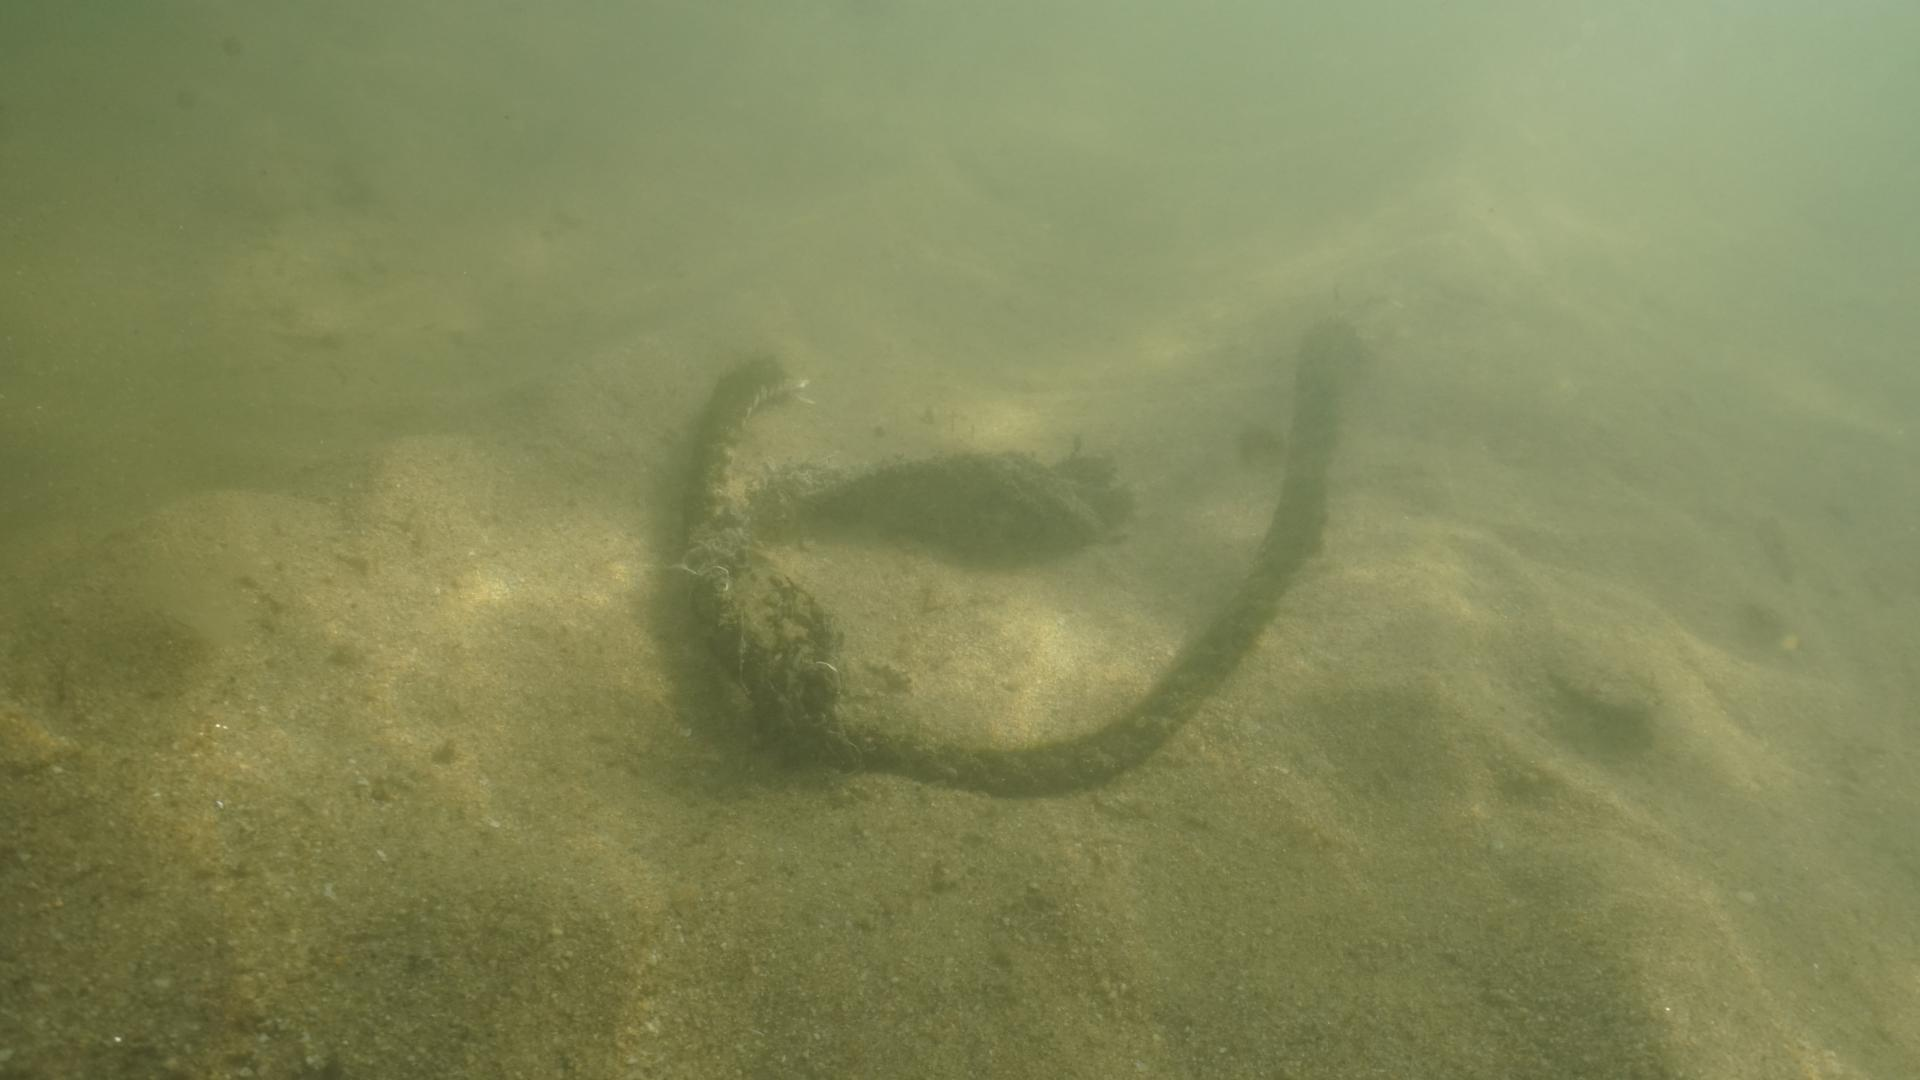rope: (679, 324, 1364, 796)
